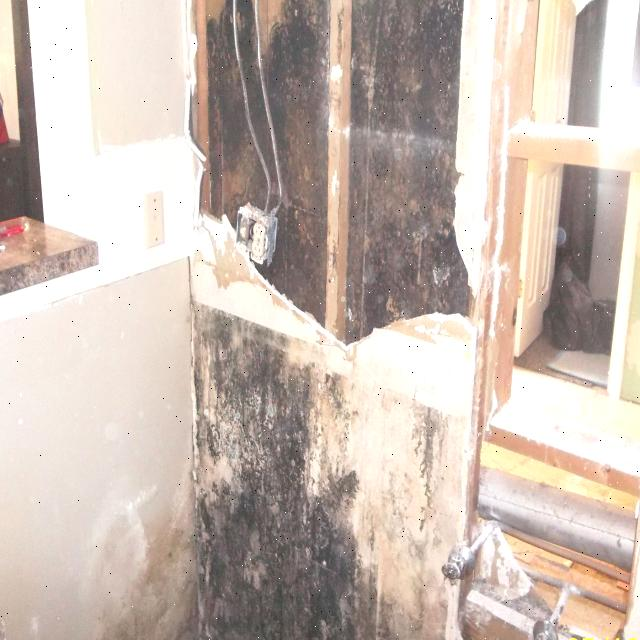dampness: (197, 321, 370, 640)
